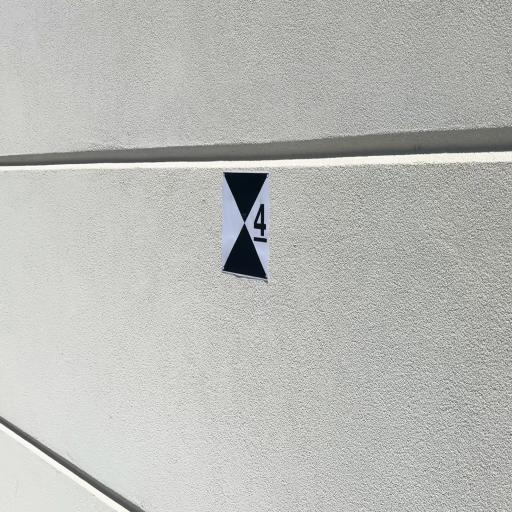target4: (223, 168, 272, 283)
